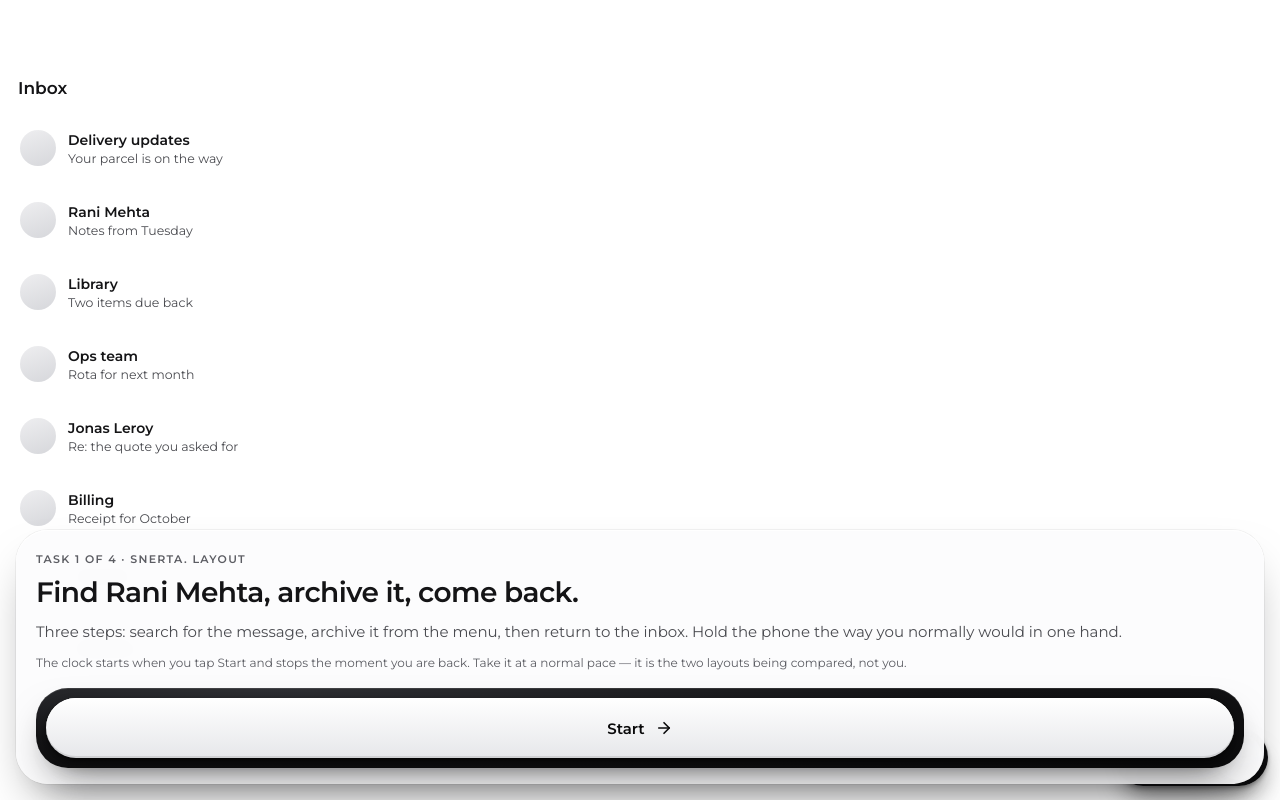
Test: finishing the task › asks for comfort only once the task is done, and says the time is already fixed
Step 1. Click the button "Start" → (640, 728), box x1=46 y1=698 x2=1234 y2=758
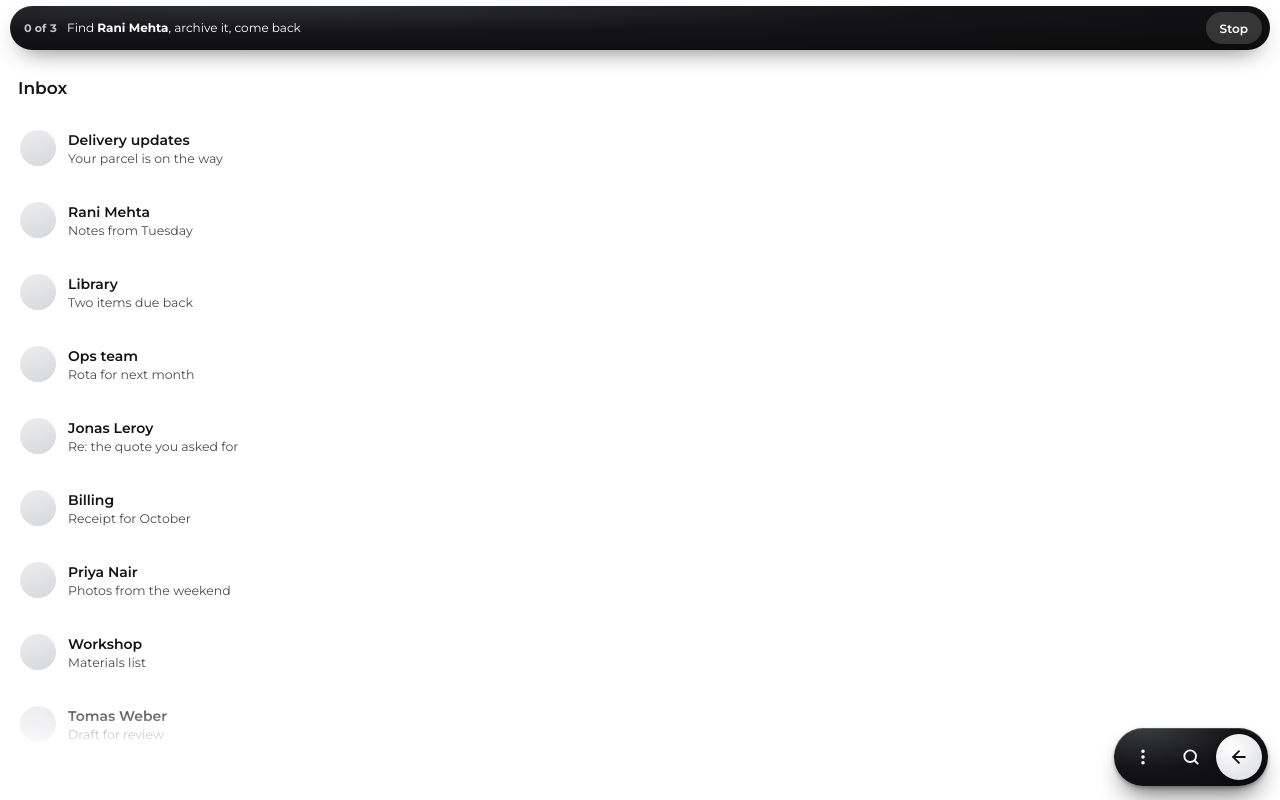
Expected: the text "How comfortable was that" is not shown
Step 2. Click the button named "Search" → (1191, 757), box x1=1168 y1=734 x2=1214 y2=780
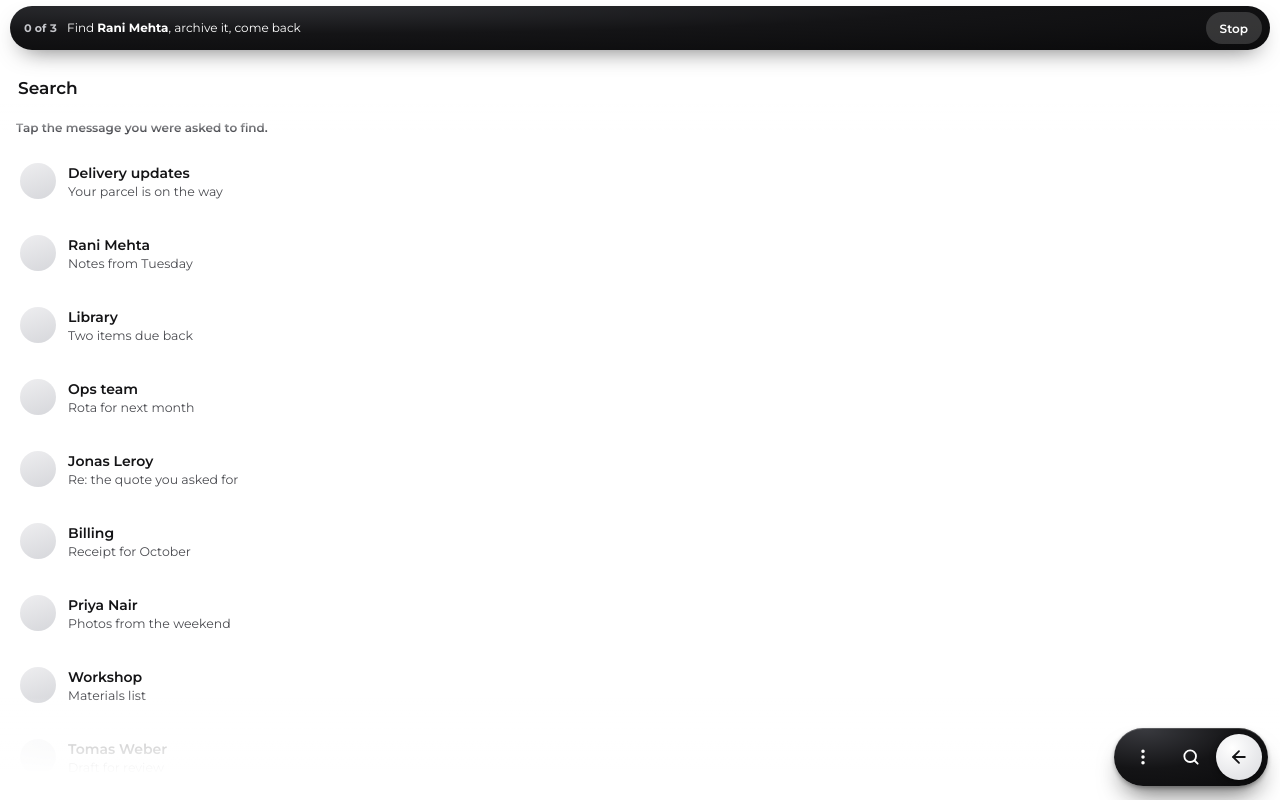
Step 3. Click the button "Rani Mehta Notes from Tuesday" → (38, 253), box x1=16 y1=225 x2=1264 y2=281
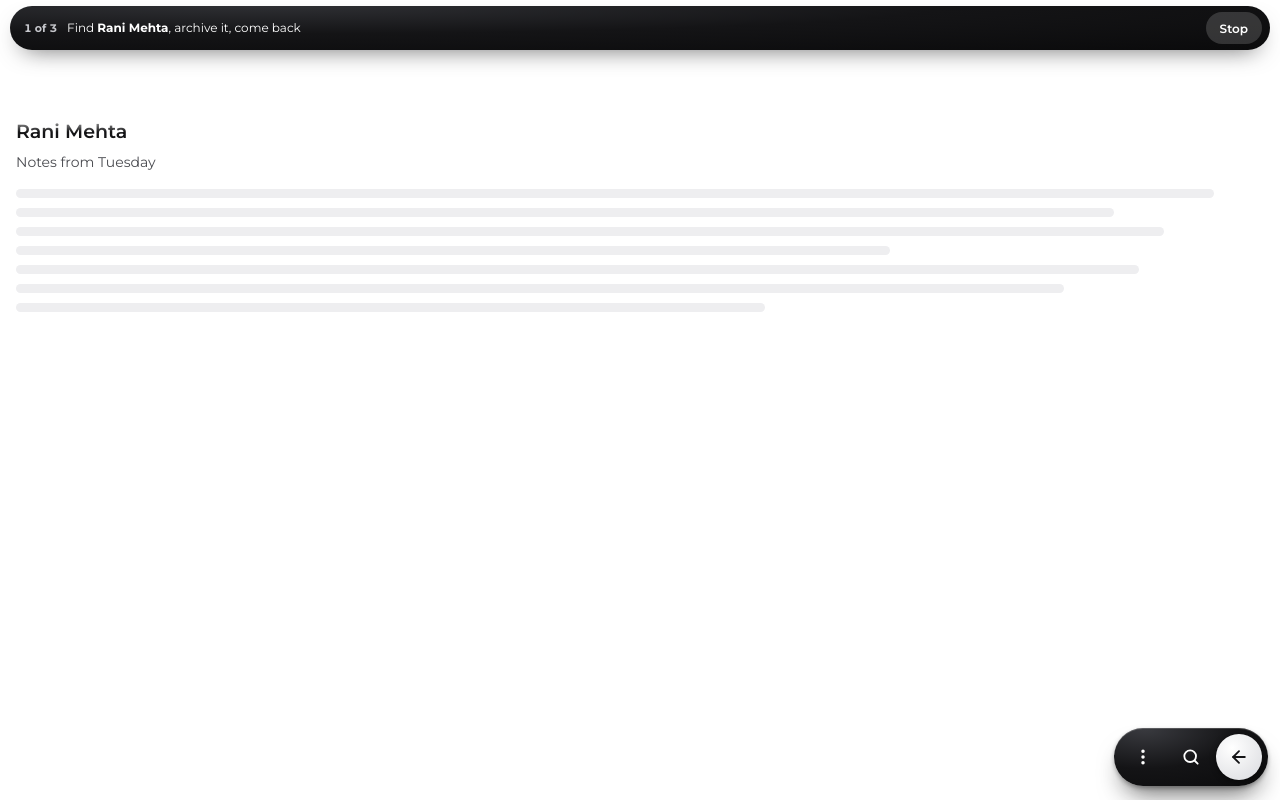
Step 4. Click the button named "More" → (1143, 757), box x1=1120 y1=734 x2=1166 y2=780
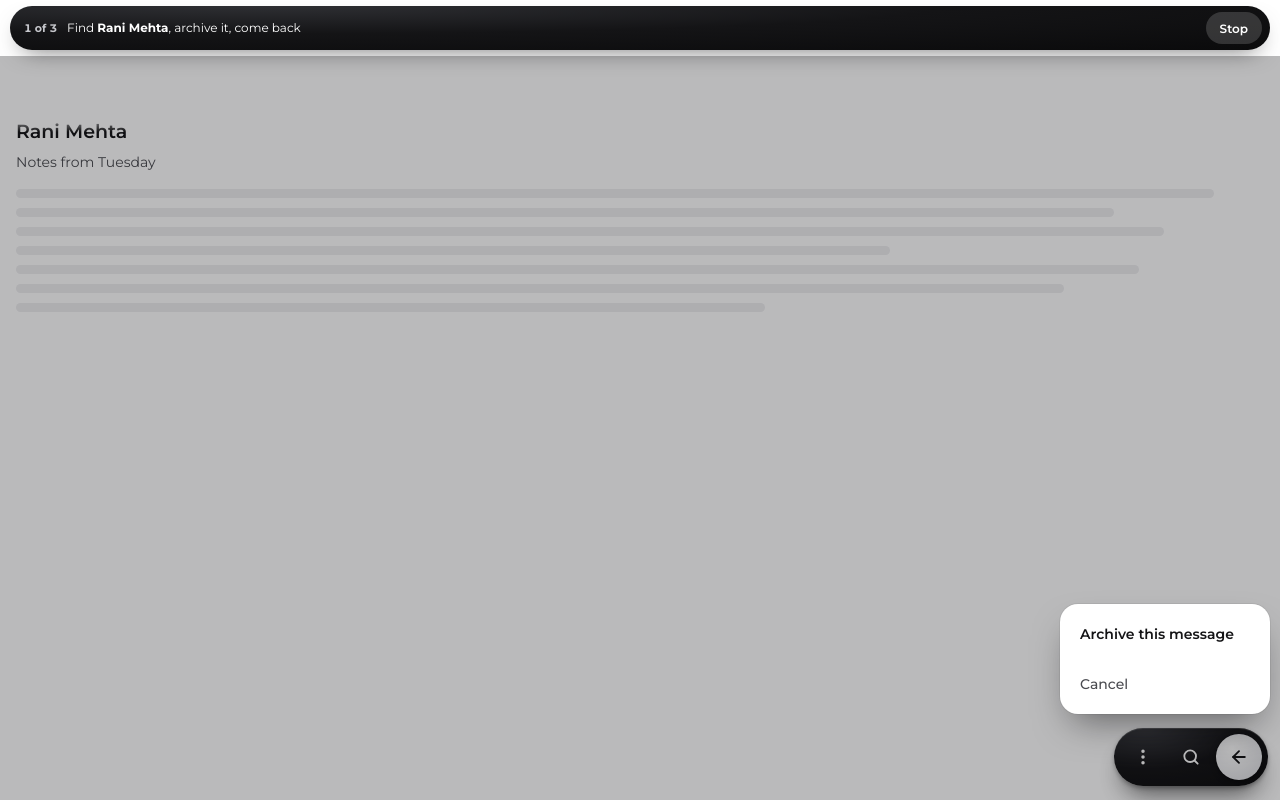
Step 5. Click the menu item "Archive this message" → (1165, 634), box x1=1066 y1=610 x2=1264 y2=658
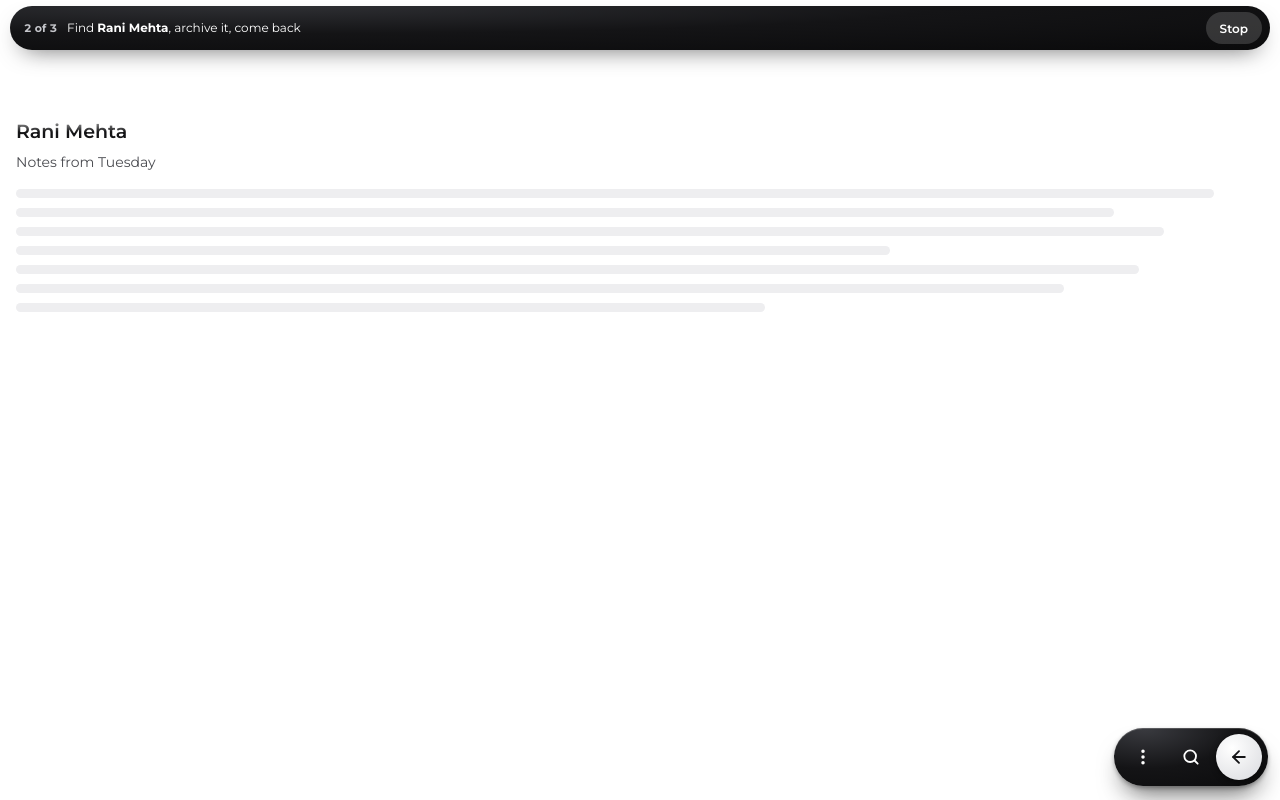
Step 6. Click the button named "Back" → (1239, 757), box x1=1216 y1=734 x2=1262 y2=780
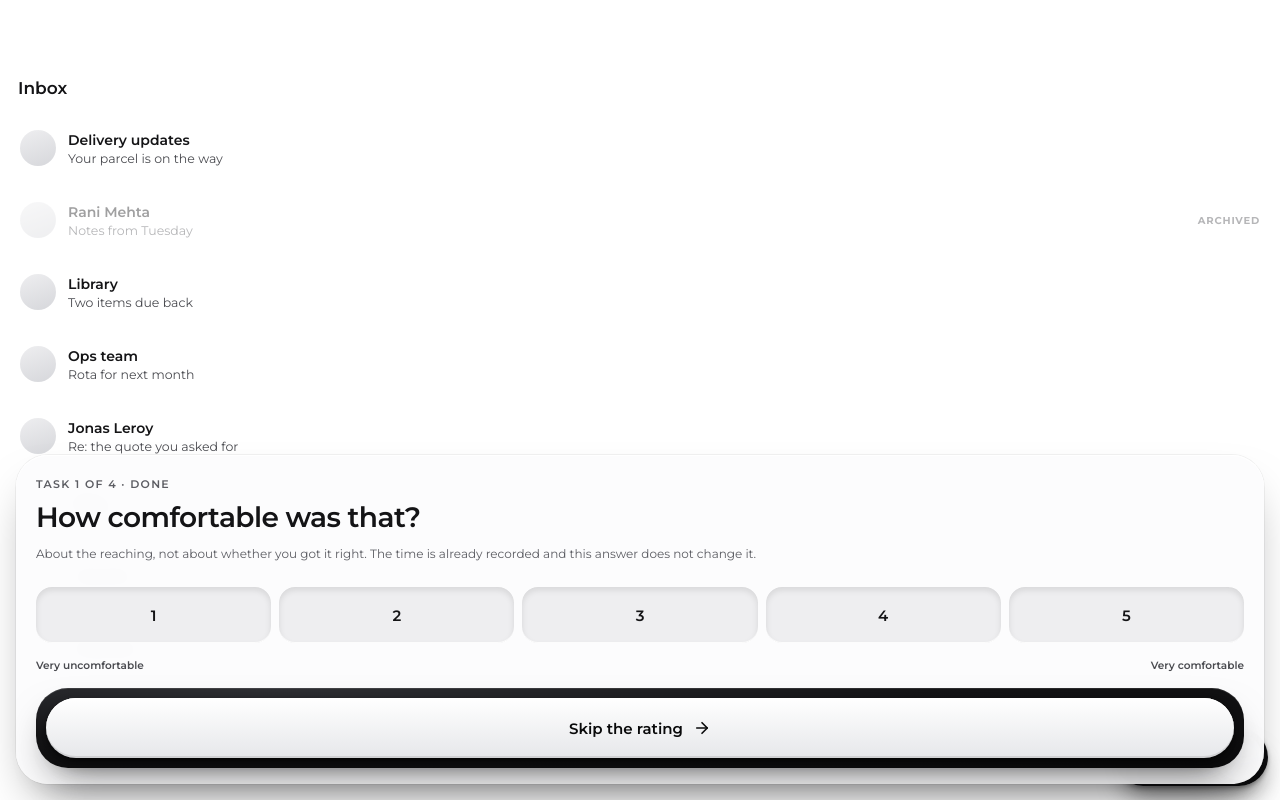
Expected: the heading "How comfortable was that?" is shown, x1=36 y1=500 x2=420 y2=534
Expected: the text "time is already recorded and this answer does not change it" is shown, x1=36 y1=546 x2=756 y2=561
